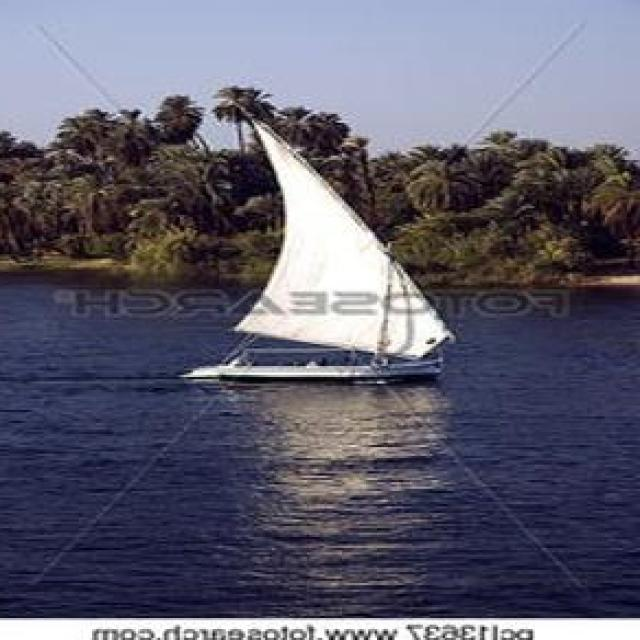sailboat: (175, 119, 466, 389)
